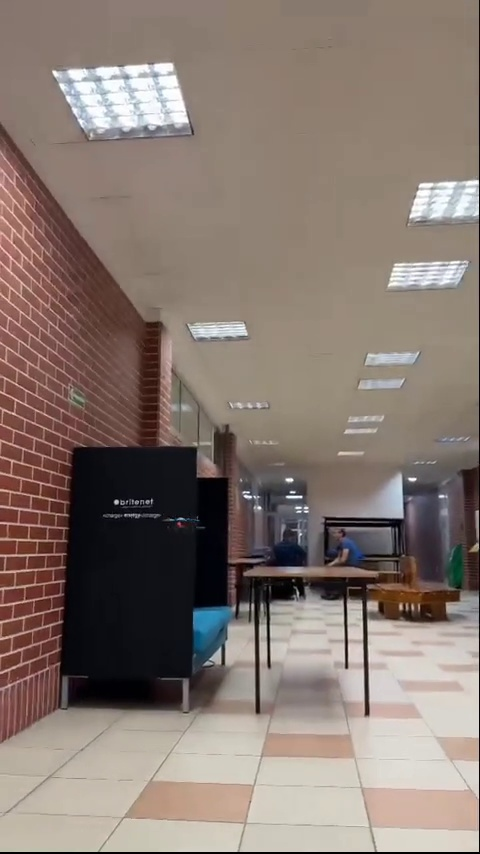drone: (164, 516, 202, 533)
no vest: (276, 530, 309, 570), (330, 525, 360, 565)
